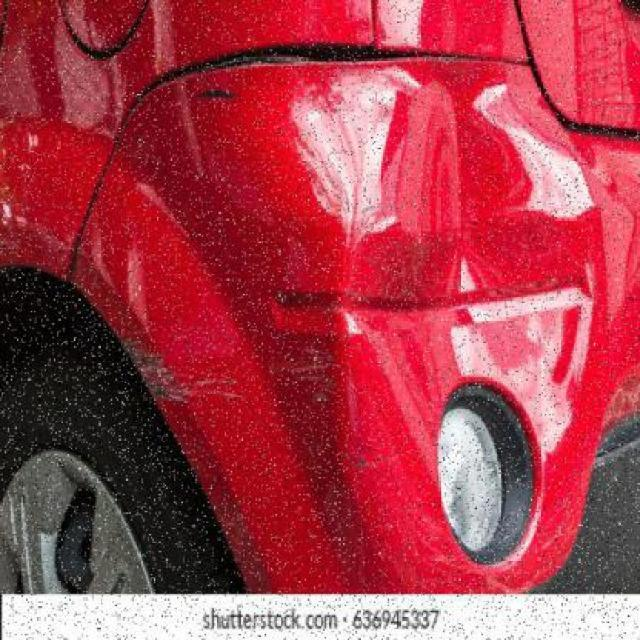rear-bumper-dent: (103, 88, 607, 592)
